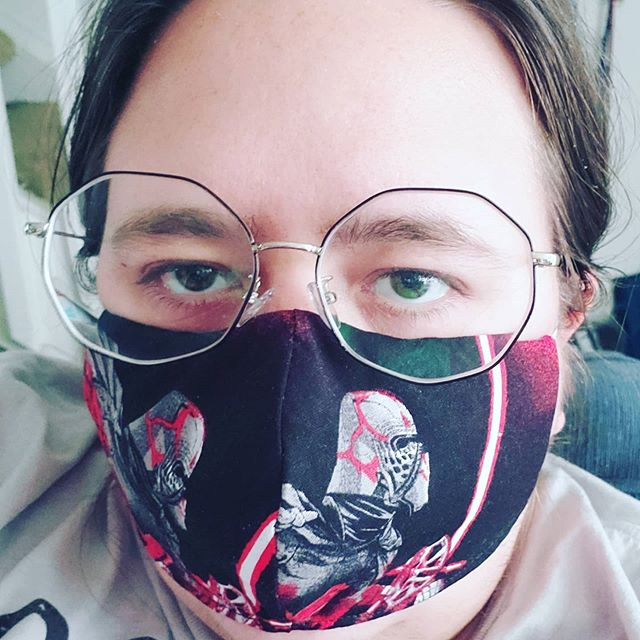homemade: (52, 294, 574, 637)
